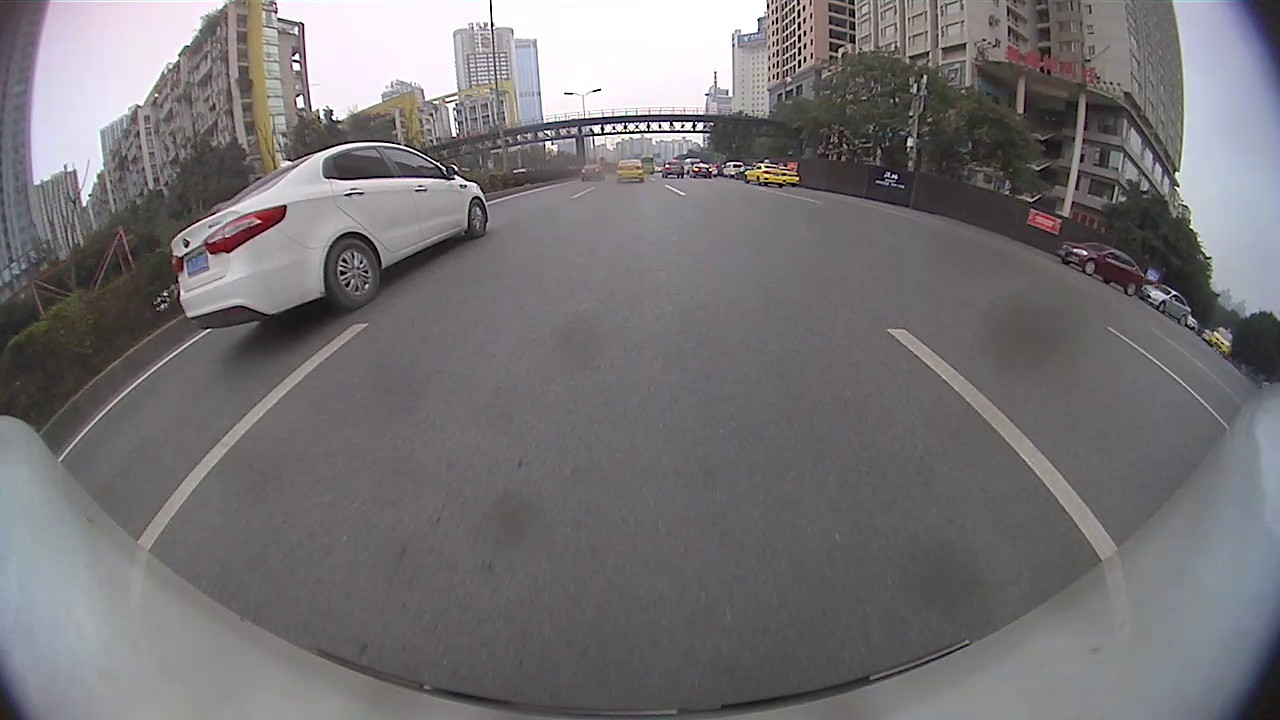car: (172, 140, 489, 330), (1060, 241, 1146, 296), (1141, 281, 1189, 326), (744, 164, 786, 190), (1207, 323, 1235, 355), (615, 160, 642, 181), (661, 160, 685, 180), (582, 164, 606, 181)
front: (468, 203, 492, 239), (1086, 260, 1100, 278)
rear: (326, 237, 383, 309), (1126, 281, 1141, 299)
